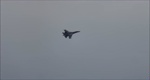maybay_muctieu: (61, 26, 80, 38)
